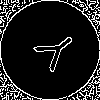Y: (25, 25, 82, 79)
